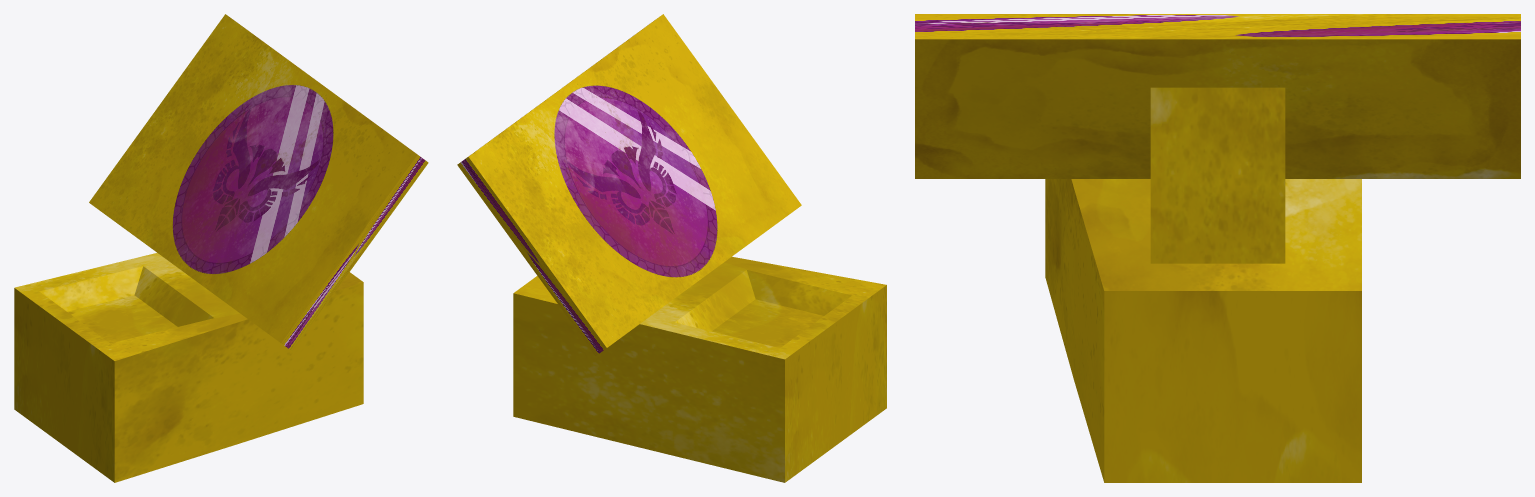
Rendered from Activador_buho.glb.
3 renders of one model, left to right at view 1: azimuth 30°, elevation 25°; view 2: azimuth 150°, elevation 25°; view 3: azimuth 270°, elevation 25°, orthographic. The views are drawn at different scales.
Parts seen in each view (by area): view 1: N_activador; view 2: N_activador; view 3: N_activador.
Boxes of the visible parts, left/top/right/bottom form: N_activador: left=14, top=14, right=428, bottom=482; N_activador: left=457, top=14, right=886, bottom=482; N_activador: left=915, top=14, right=1520, bottom=482.
Bounding box in the file's own units: 1.01 × 1.04 × 1.23.
Materials: 1 (1 with a texture image).
